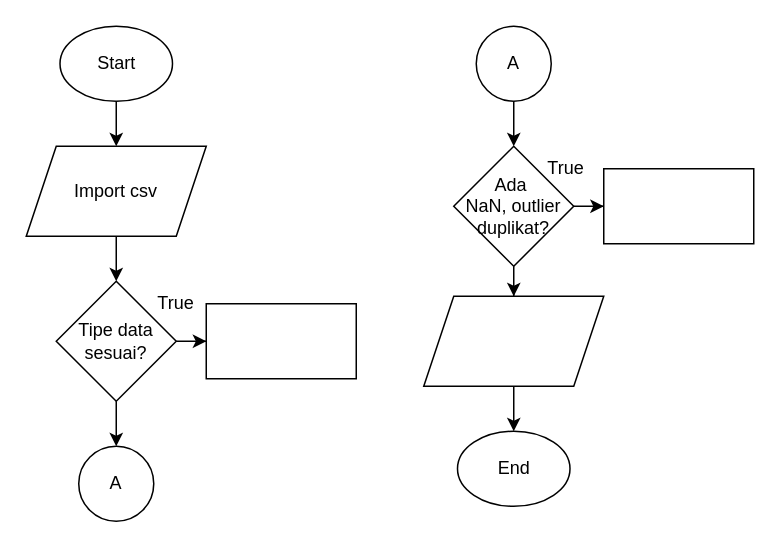
This 780x548 diagram has some shape labels left out. Here are the shapes that lost their labels. From the top down, the box of each, then its label:
(602, 167, 754, 244): Drop NaN,outler dan duplikat
(205, 302, 356, 379): Perbaiki tipe data fitur
(422, 295, 604, 386): Export csv dan cari insight dari data
